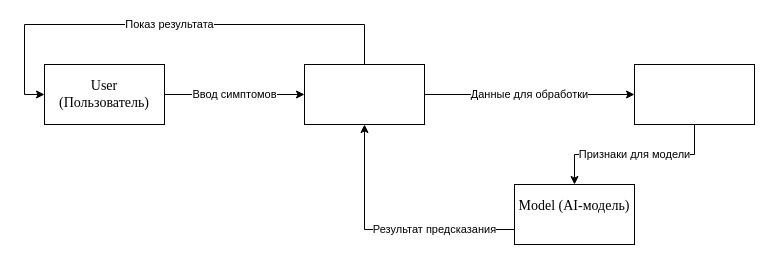
The diagram is 772 pixels wide and 265 high, and some of its shapes have lost their labels. The shapes that lost their labels are listed below. From the top down, each one's centre as x and y in pixels, then its label:
the point at 364,94: UI (Streamlit интерфейс)
the point at 694,94: Logic (Логика обработки)
